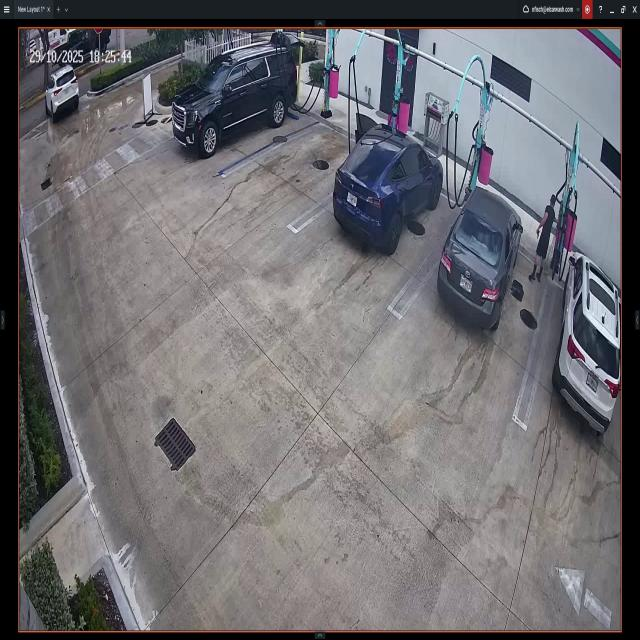Car: (334, 122, 442, 250), (172, 44, 296, 152), (440, 187, 521, 332), (557, 252, 620, 432), (46, 68, 79, 122)
